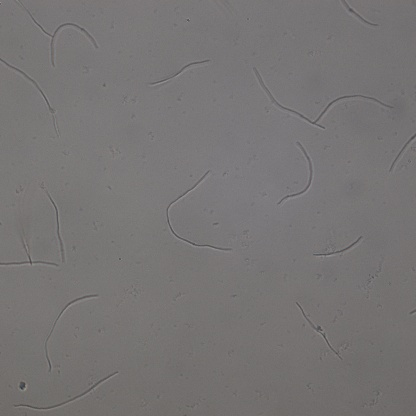Sensitive: (165, 170, 232, 254), (17, 1, 99, 67), (1, 59, 61, 136), (43, 294, 98, 373), (253, 68, 324, 128), (315, 92, 394, 124), (297, 302, 341, 359), (278, 141, 315, 204), (151, 59, 212, 87), (45, 190, 67, 261), (313, 235, 363, 260), (340, 1, 378, 28), (1, 256, 61, 272), (392, 133, 416, 169)
